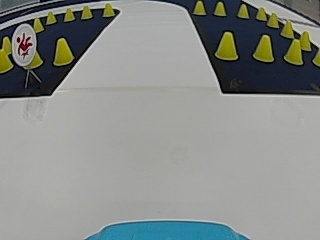cone: (215, 31, 239, 61), (253, 33, 274, 62), (52, 37, 73, 66), (284, 39, 302, 66), (0, 47, 12, 74), (281, 19, 293, 38), (192, 0, 206, 16), (299, 30, 310, 50), (237, 3, 249, 19), (81, 4, 93, 20), (267, 11, 278, 28), (102, 2, 114, 17), (214, 1, 226, 16), (32, 18, 44, 32), (256, 5, 266, 21), (45, 10, 56, 24), (64, 7, 74, 22)
tumble: (13, 27, 34, 59)
